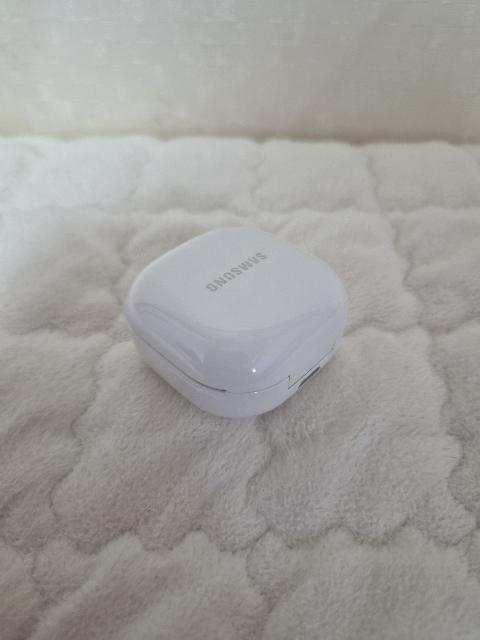earphone_case: (124, 227, 349, 419)
